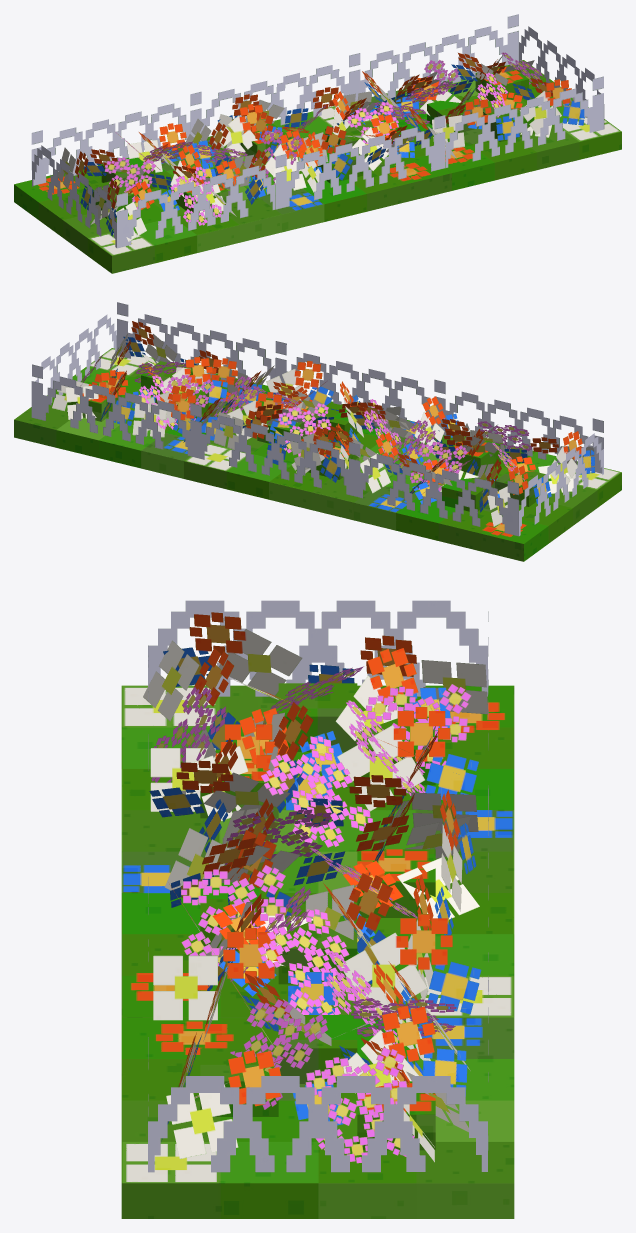
Rendered from C3_garden03.FBX.
3 views of the same model, one above another, from view 1: azimuth 30°, elevation 25°; view 2: azimuth 150°, elevation 25°; view 3: azimuth 270°, elevation 25° (orthographic). The views are drawn at different scales.
Visible parts, largest first — view 1: Box004, Box003, Box002, Plane004, Plane003, Plane045, Plane044, Plane046, Plane043, Plane035, Plane017, Plane047 (+27 smaller); view 2: Box004, Box003, Box002, Plane043, Plane044, Plane046, Plane004, Plane045, Plane003, Plane036, Plane002, Plane038 (+27 smaller); view 3: Box003, Box002, Box004, Plane001, Plane039, Plane034, Plane047, Plane018, Plane026, Plane040, Plane010, Plane009 (+21 smaller).
Boxes of the visible parts, x1,y1,x2,y2 form: Box004: [14, 146, 281, 273]; Box003: [369, 60, 621, 190]; Box002: [207, 105, 451, 232]; Plane004: [275, 115, 445, 209]; Plane003: [445, 76, 603, 167]; Plane045: [116, 165, 275, 248]; Plane044: [360, 14, 518, 104]; Plane046: [31, 103, 190, 185]; Plane043: [190, 53, 360, 141]; Plane035: [127, 104, 282, 172]; Plane017: [432, 79, 584, 148]; Plane047: [32, 145, 116, 247]; Box004: [354, 435, 621, 561]; Box003: [14, 348, 269, 478]; Box002: [184, 398, 445, 520]; Plane043: [190, 403, 360, 497]; Plane044: [31, 364, 190, 455]; Plane046: [360, 454, 518, 536]; Plane004: [275, 341, 445, 435]; Plane045: [445, 391, 603, 473]; Plane003: [116, 302, 275, 386]; Plane036: [175, 358, 333, 409]; Plane002: [214, 410, 340, 482]; Plane038: [132, 392, 296, 440]; Box003: [121, 1015, 514, 1218]; Box002: [121, 849, 514, 1017]; Box004: [121, 683, 514, 851]; Plane001: [148, 1076, 487, 1172]; Plane039: [153, 914, 481, 1020]; Plane034: [150, 707, 478, 811]; Plane047: [148, 600, 487, 696]; Plane018: [166, 1006, 467, 1158]; Plane026: [163, 612, 488, 714]; Plane040: [149, 760, 478, 831]; Plane010: [164, 828, 392, 984]; Plane009: [170, 815, 470, 907].
Bounding box in the file's own units: 354 × 47.24 × 118.
2 materials, 2 textured.
